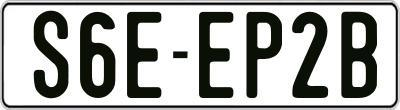2: (291, 12, 327, 100)
6: (78, 9, 118, 99)
B: (340, 10, 377, 96)
E: (126, 11, 166, 98), (198, 10, 234, 101)
P: (244, 9, 280, 99)
S: (34, 11, 72, 103)
